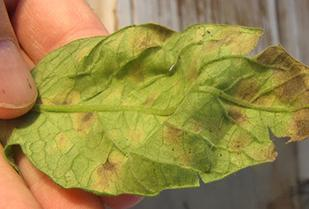Tomato mold leaf: (22, 20, 309, 208)
